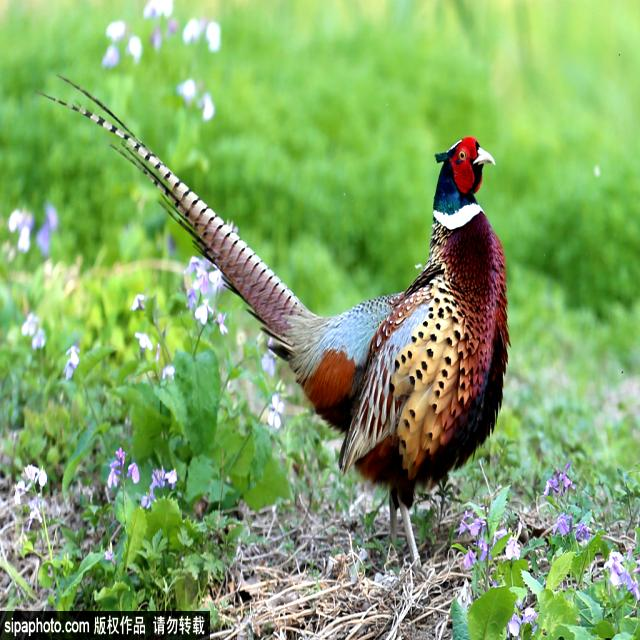Phasianus Colchicus: (34, 70, 311, 359)
